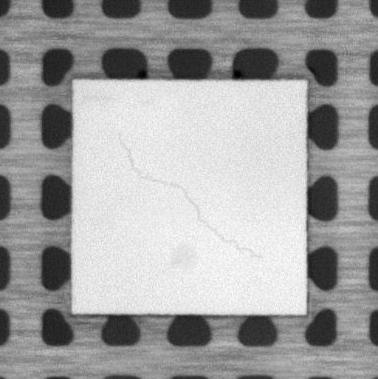DIE_CRACK: (116, 134, 261, 259)
